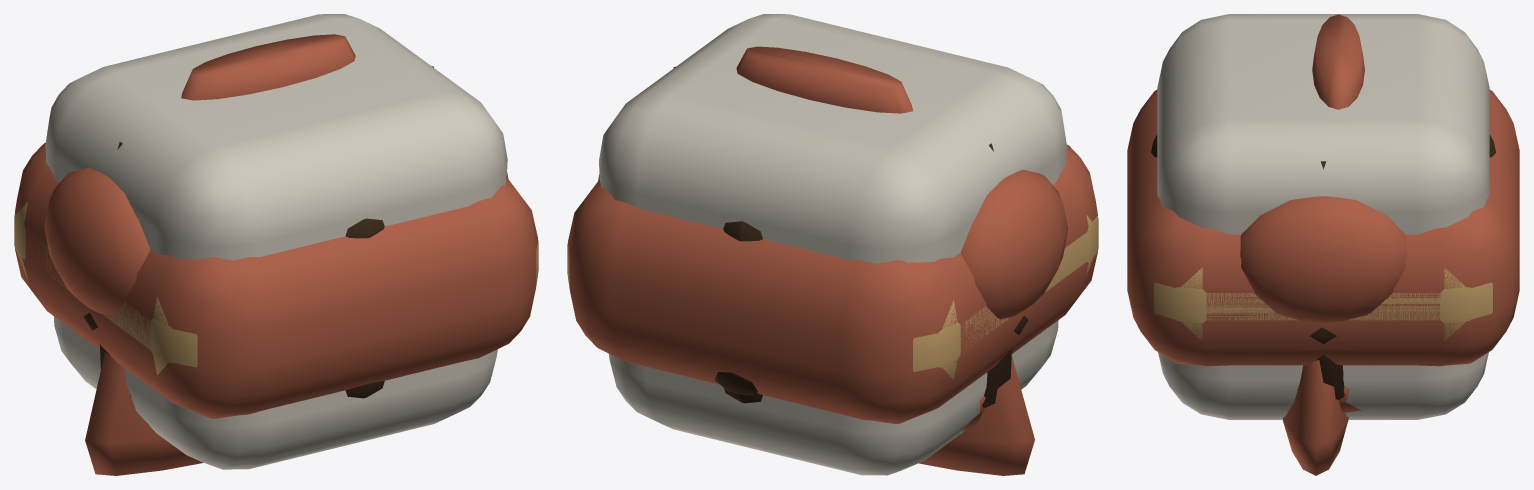
The model's file is character.glb.
3 views of the same model, side by side, from view 1: azimuth 30°, elevation 25°; view 2: azimuth 150°, elevation 25°; view 3: azimuth 270°, elevation 25° (orthographic). The views are drawn at different scales.
Visible parts, largest first — view 1: head, hood, cloak, torso, helm, hair_shagSide; view 2: head, hood, cloak, torso, helm, hair_shagSide, hair_long, hair_cap; view 3: head, hood, torso, cloak, helm, hair_long.
Part boxes in pixels (box(x1,y1,x2,y2)): head: box(45, 14, 507, 469); hood: box(15, 143, 537, 418); cloak: box(85, 34, 355, 475); torso: box(44, 167, 508, 425); helm: box(14, 202, 538, 374); hair_shagSide: box(345, 218, 384, 398); head: box(599, 14, 1066, 475); hood: box(568, 144, 1097, 423); cloak: box(736, 46, 1034, 475); torso: box(598, 169, 1068, 430); helm: box(567, 214, 1098, 379); hair_shagSide: box(723, 221, 762, 403); hair_long: box(673, 66, 1011, 407); hair_cap: box(715, 315, 1028, 395); head: box(1157, 14, 1489, 419); hood: box(1127, 89, 1519, 366); torso: box(1240, 196, 1406, 412); cloak: box(1282, 14, 1364, 475); helm: box(1154, 267, 1492, 340); hair_long: box(1316, 161, 1344, 399).
Size of the model in its own units: 0.605 by 0.5 by 0.52.
